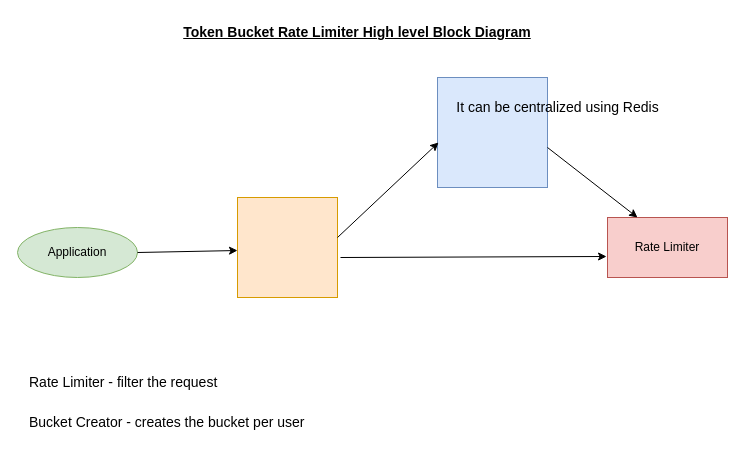
This 745x454 diagram has some shape labels left out. The shapes that lost their labels are listed below. From the top down, each one's centre as x and y in pixels, then its label:
At point (492, 132): "Bucket creator".
At point (287, 247): "Bucket Cache".
